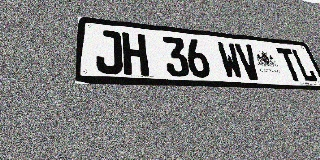3: (162, 36, 190, 77)
6: (184, 38, 212, 78)
H: (122, 32, 149, 76)
J: (96, 30, 123, 75)
L: (291, 49, 319, 82)
T: (276, 47, 304, 82)
V: (234, 43, 263, 80)
W: (216, 41, 245, 79)
